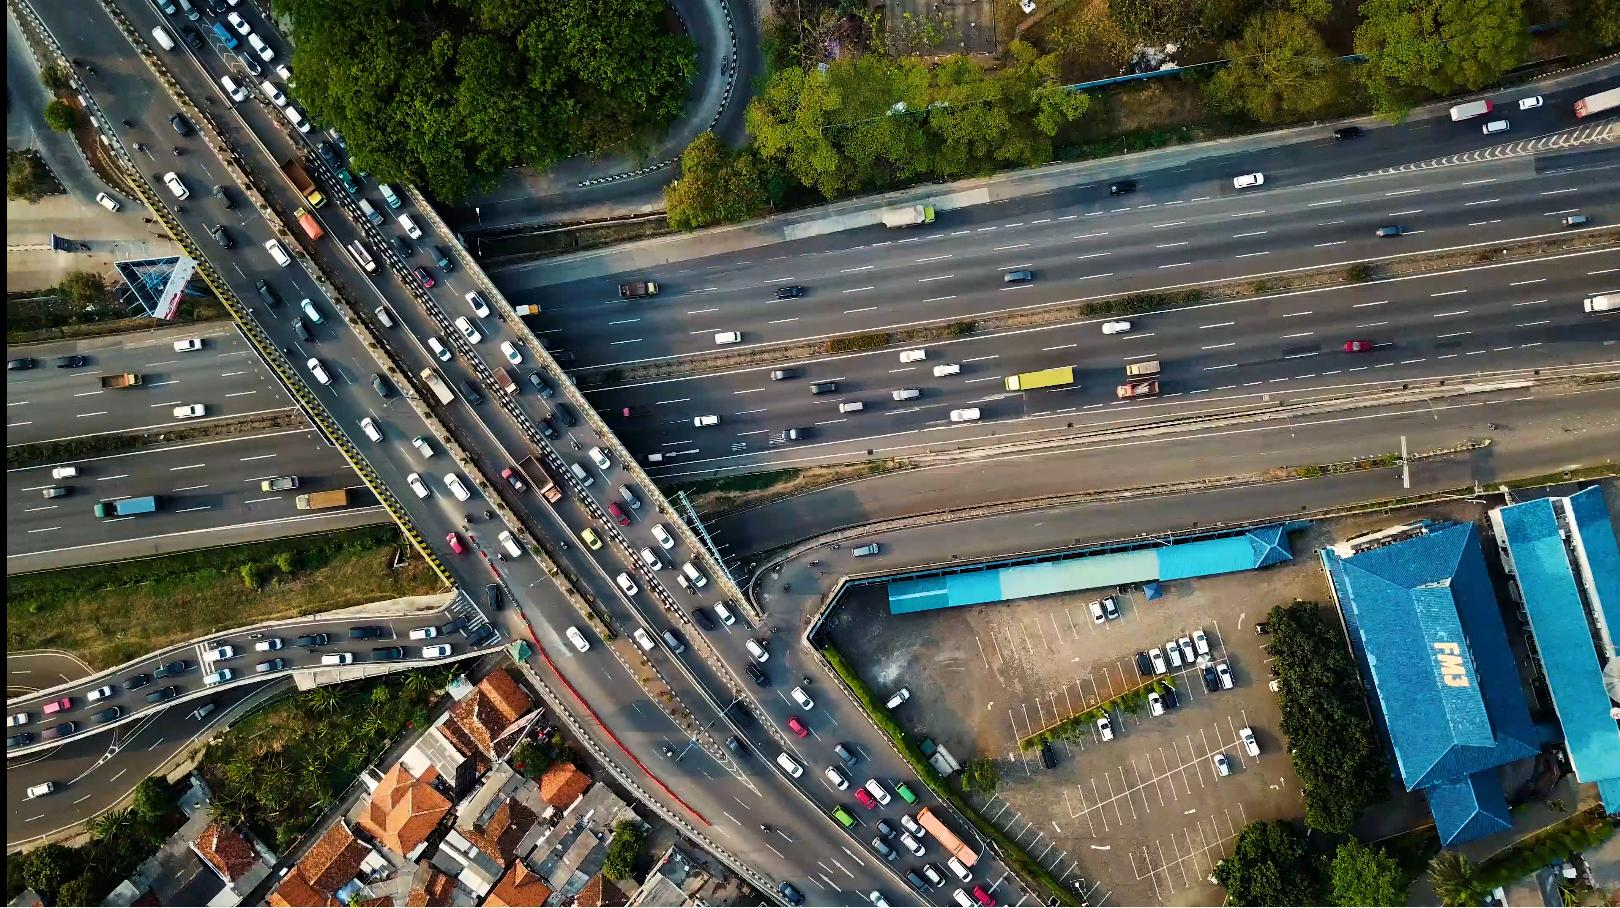car: (710, 327, 765, 364), (462, 286, 497, 323), (487, 573, 514, 620), (411, 436, 446, 461)
motorcycle: (478, 506, 496, 524), (592, 432, 609, 441)
truck: (1003, 364, 1094, 399)
